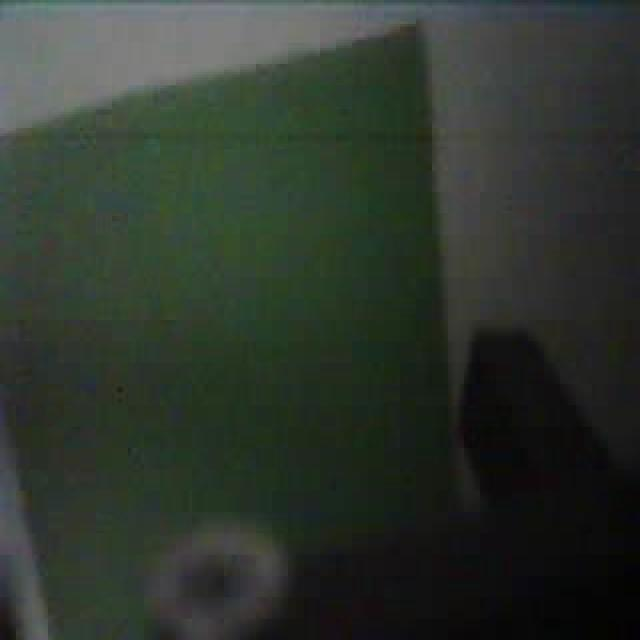green_box: (5, 30, 476, 616)
